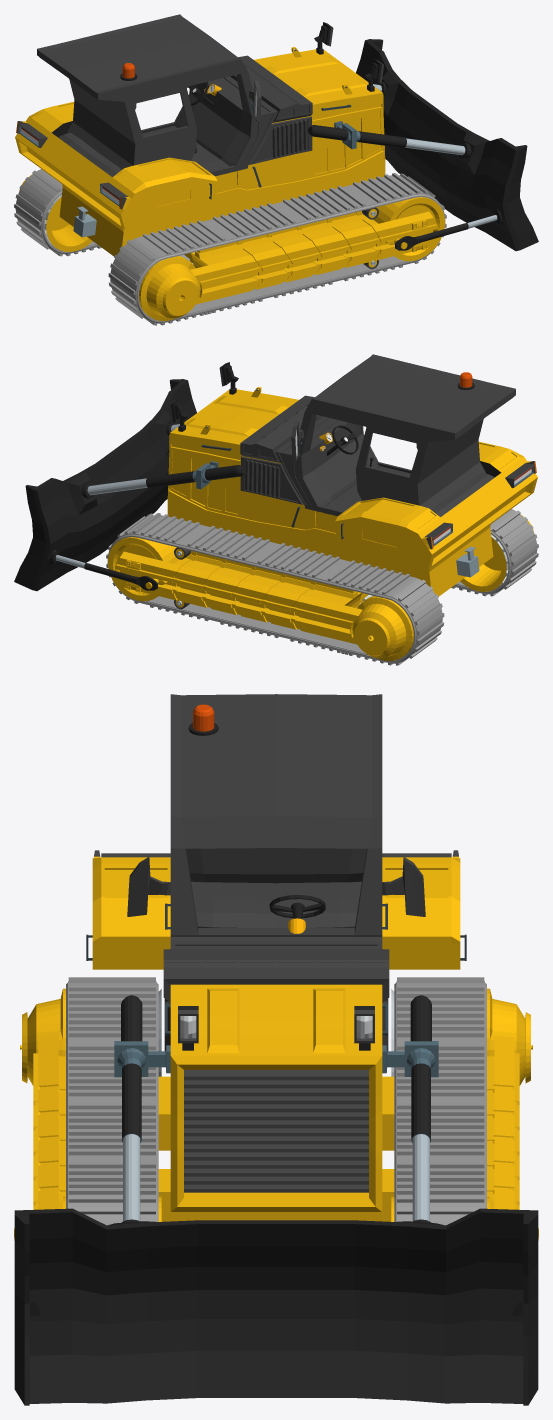
File: Bulldozer.fbx
3 renders of one model, top to bottom at view 1: azimuth 30°, elevation 25°; view 2: azimuth 150°, elevation 25°; view 3: azimuth 270°, elevation 25°, orthographic. The views are drawn at different scales.
Parts seen in each view (by area): view 1: Bulldozer:Mesh; view 2: Bulldozer:Mesh; view 3: Bulldozer:Mesh.
Boxes of the visible parts, x1,y1,x2,y2 form: Bulldozer:Mesh: (14,14,538,325); Bulldozer:Mesh: (14,354,538,665); Bulldozer:Mesh: (14,694,538,1405).
Bounding box in the file's own units: 14.4 × 8 × 9.45.
